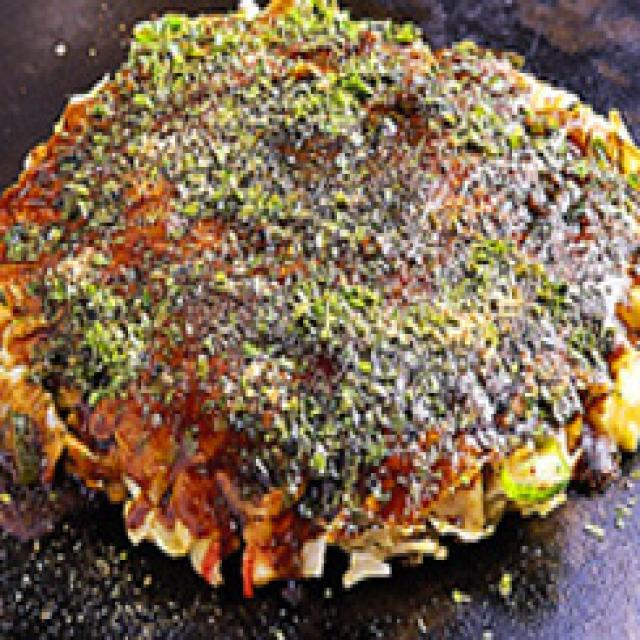蛋糕甜品: (0, 0, 640, 602)
